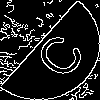C: (25, 25, 88, 82)
